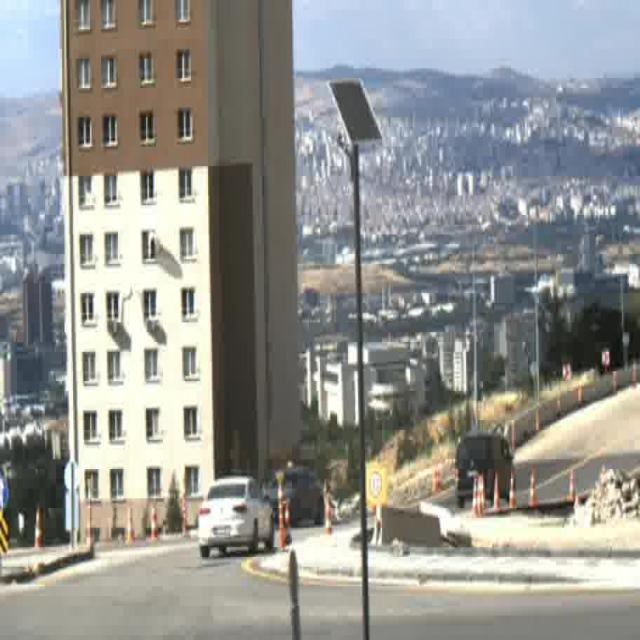Car: (200, 476, 273, 555), (453, 432, 515, 507), (260, 466, 326, 526)
